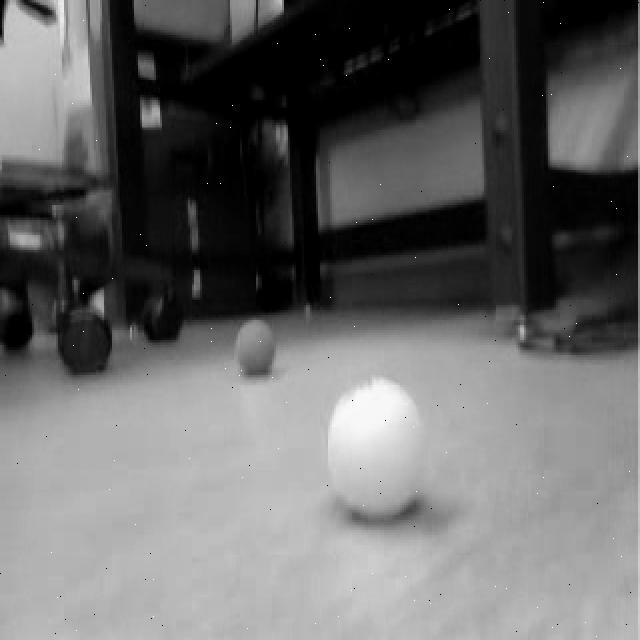ping-pong-ball: (322, 372, 432, 526), (230, 313, 285, 382)
